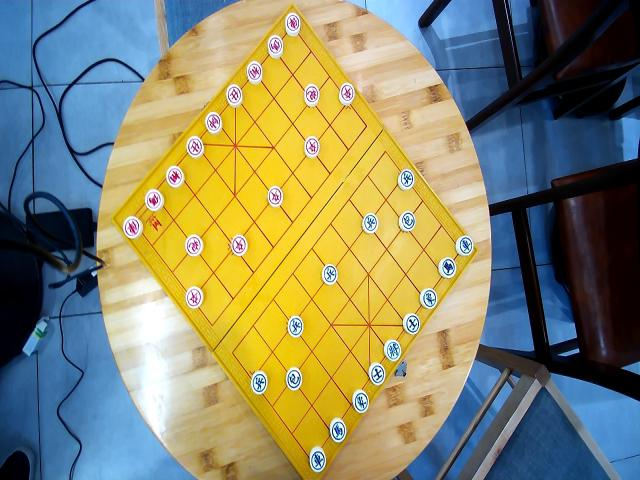piece: (122, 215, 142, 240), (250, 370, 268, 395), (328, 417, 346, 442), (308, 446, 326, 471), (184, 233, 202, 257), (204, 111, 222, 134), (186, 135, 204, 158), (368, 361, 385, 385), (285, 366, 302, 390), (352, 389, 368, 414), (402, 312, 420, 334), (230, 233, 248, 255), (144, 189, 162, 211), (419, 287, 436, 310), (166, 165, 183, 188), (185, 285, 202, 308), (226, 83, 242, 107), (304, 83, 320, 107), (284, 12, 300, 36), (438, 257, 456, 278), (455, 235, 473, 256), (384, 339, 401, 361), (361, 212, 378, 234), (267, 34, 283, 57), (339, 82, 355, 105), (304, 135, 320, 158), (246, 60, 262, 83), (399, 210, 416, 231), (288, 315, 304, 337), (398, 168, 414, 190), (321, 263, 337, 284), (267, 185, 283, 206)
